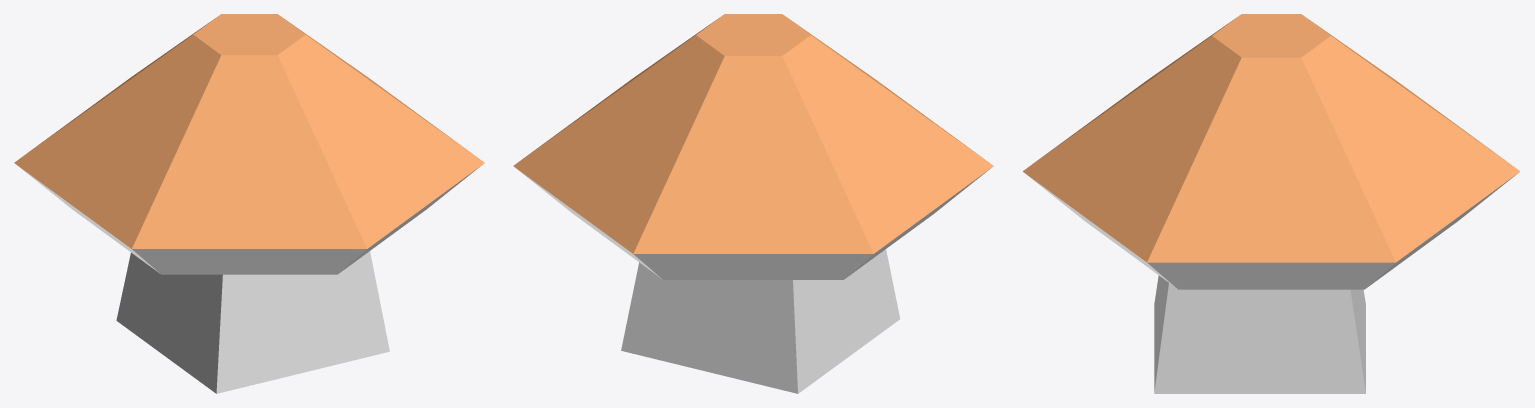
File: mushroom_tan.dae
3 renders of one model, left to right at view 1: azimuth 30°, elevation 25°; view 2: azimuth 150°, elevation 25°; view 3: azimuth 270°, elevation 25°, orthographic. The views are drawn at different scales.
Parts seen in each view (by area): view 1: mushroom_tan; view 2: mushroom_tan; view 3: mushroom_tan.
Boxes of the visible parts, x1,y1,x2,y2 form: mushroom_tan: [14, 14, 484, 393]; mushroom_tan: [513, 14, 993, 393]; mushroom_tan: [1023, 14, 1519, 393].
Size of the model in its own units: 0.1914 by 0.1539 by 0.221.
